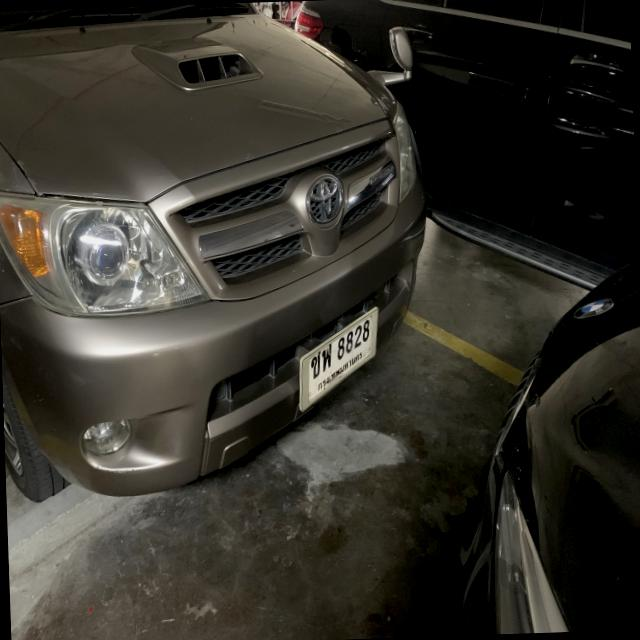license_plate: (294, 302, 386, 416)
